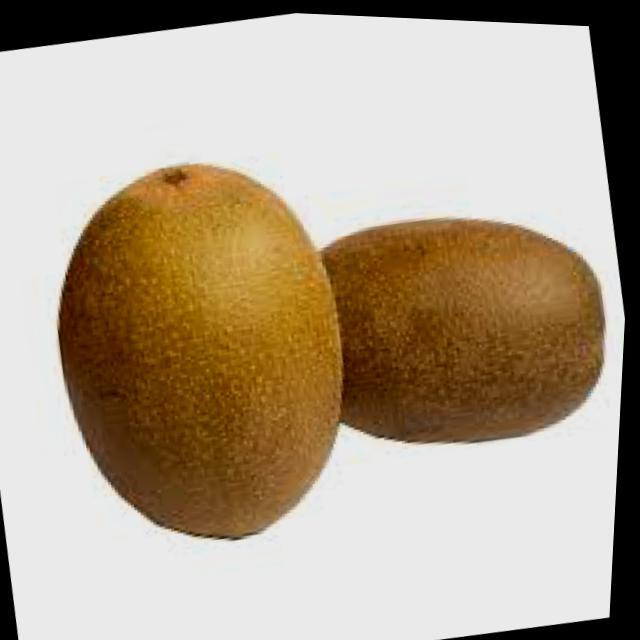kiwi: (21, 132, 387, 567), (298, 177, 634, 475)
